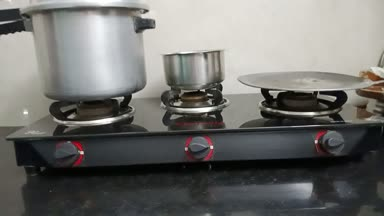flame_gas_off: (265, 91, 347, 158), (48, 98, 124, 168), (171, 87, 224, 164)
